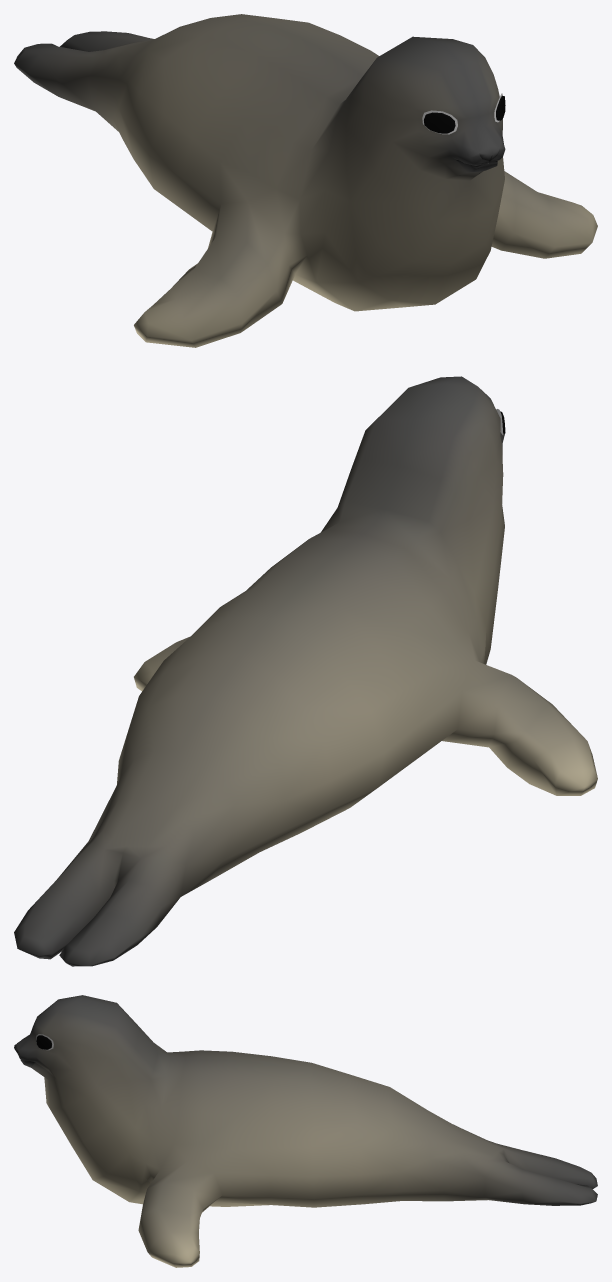
File: HarbourSeal.gltf
3 renders of one model, top to bottom at view 1: azimuth 30°, elevation 25°; view 2: azimuth 150°, elevation 25°; view 3: azimuth 270°, elevation 25°, orthographic. The views are drawn at different scales.
Visible parts, largest first — view 1: base.081; view 2: base.081; view 3: base.081.
Boxes of the visible parts, x1,y1,x2,y2 form: base.081: (14,14,597,347); base.081: (14,376,597,966); base.081: (14,995,597,1267).
Bounding box in the file's own units: 1.14 × 0.7133 × 1.92.
